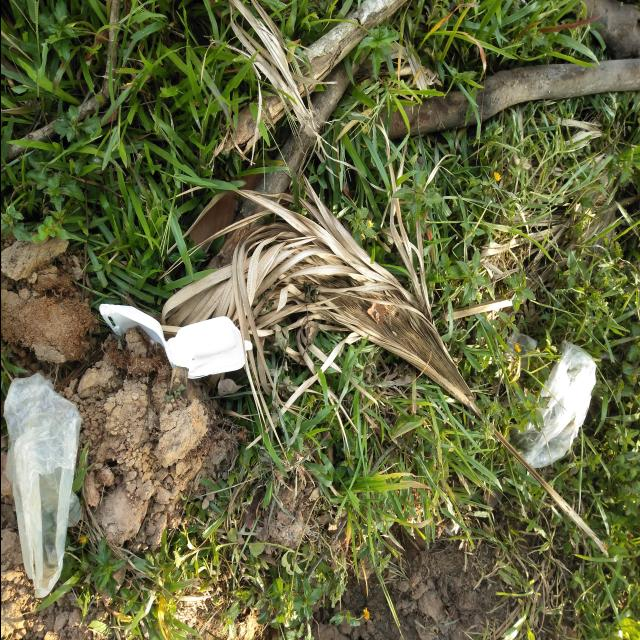Meal carton: (99, 303, 252, 378)
Plastic film: (508, 340, 595, 468), (505, 331, 536, 370)
Single-use carrier bag: (3, 373, 82, 598)
